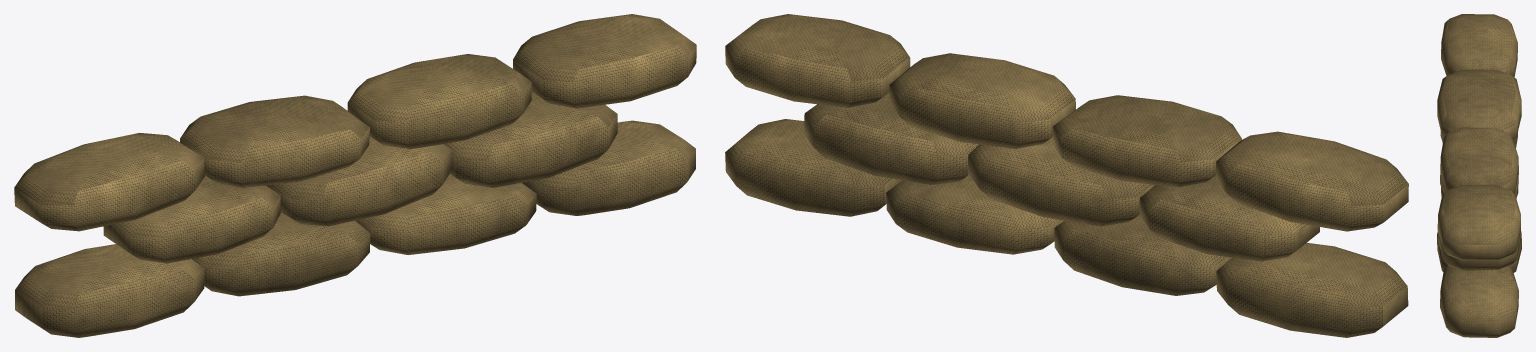
The model's file is SM_Sacos_Muro_2m_Bajo.fbx.
3 views of the same model, side by side, from view 1: azimuth 30°, elevation 25°; view 2: azimuth 150°, elevation 25°; view 3: azimuth 270°, elevation 25° (orthographic). The views are drawn at different scales.
Parts seen in each view (by area): view 1: SM_Sacos_Muro_2m_Bajo; view 2: SM_Sacos_Muro_2m_Bajo; view 3: SM_Sacos_Muro_2m_Bajo.
Part boxes in pixels (box(x1,y1,x2,y2)): SM_Sacos_Muro_2m_Bajo: box(14, 14, 696, 337); SM_Sacos_Muro_2m_Bajo: box(725, 14, 1408, 337); SM_Sacos_Muro_2m_Bajo: box(1437, 14, 1521, 337).
Size of what is drawn, in the model's own units: 1.99 by 0.3127 by 0.4885.
